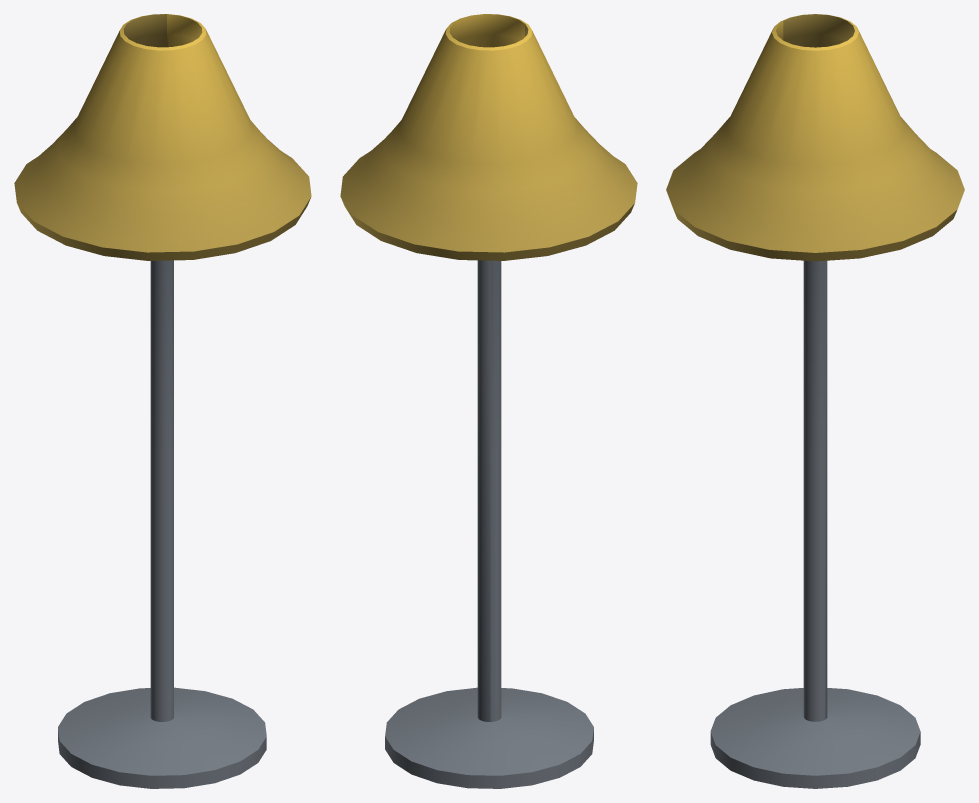
The model's file is Lamp_70s_v1.fbx.
The picture shows the model from 3 angles, left to right: view 1: azimuth 30°, elevation 25°; view 2: azimuth 150°, elevation 25°; view 3: azimuth 270°, elevation 25°; orthographic projection.
Visible parts, largest first — view 1: M_Lamp_70s_1; view 2: M_Lamp_70s_1; view 3: M_Lamp_70s_1.
Boxes of the visible parts, left/top/right/bottom form: M_Lamp_70s_1: left=14, top=14, right=311, bottom=788; M_Lamp_70s_1: left=340, top=14, right=637, bottom=788; M_Lamp_70s_1: left=666, top=14, right=964, bottom=788.
Bounding box in the file's own units: 6.59 × 17.36 × 6.59.
